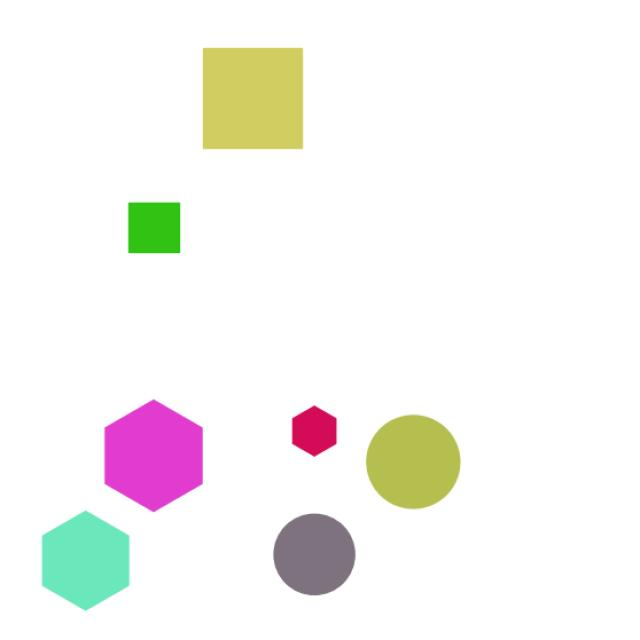Circle: (353, 406, 469, 524), (260, 504, 366, 610)
Hexagon: (83, 394, 221, 520), (27, 498, 158, 621), (281, 397, 358, 465)
square: (175, 30, 318, 173), (116, 188, 211, 280)
